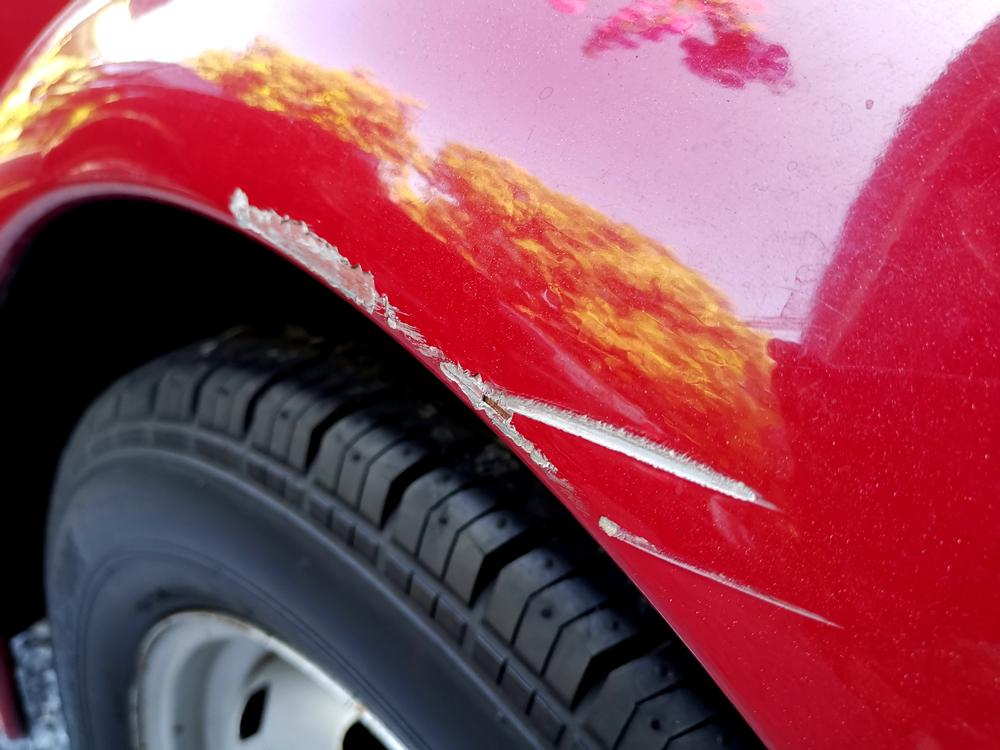scratch: (226, 180, 854, 632)
